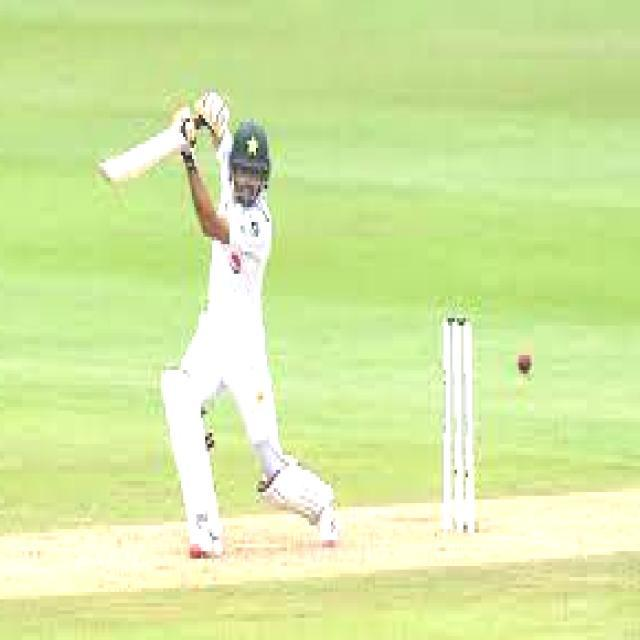bat: (101, 126, 190, 184)
toe: (100, 164, 112, 183)
